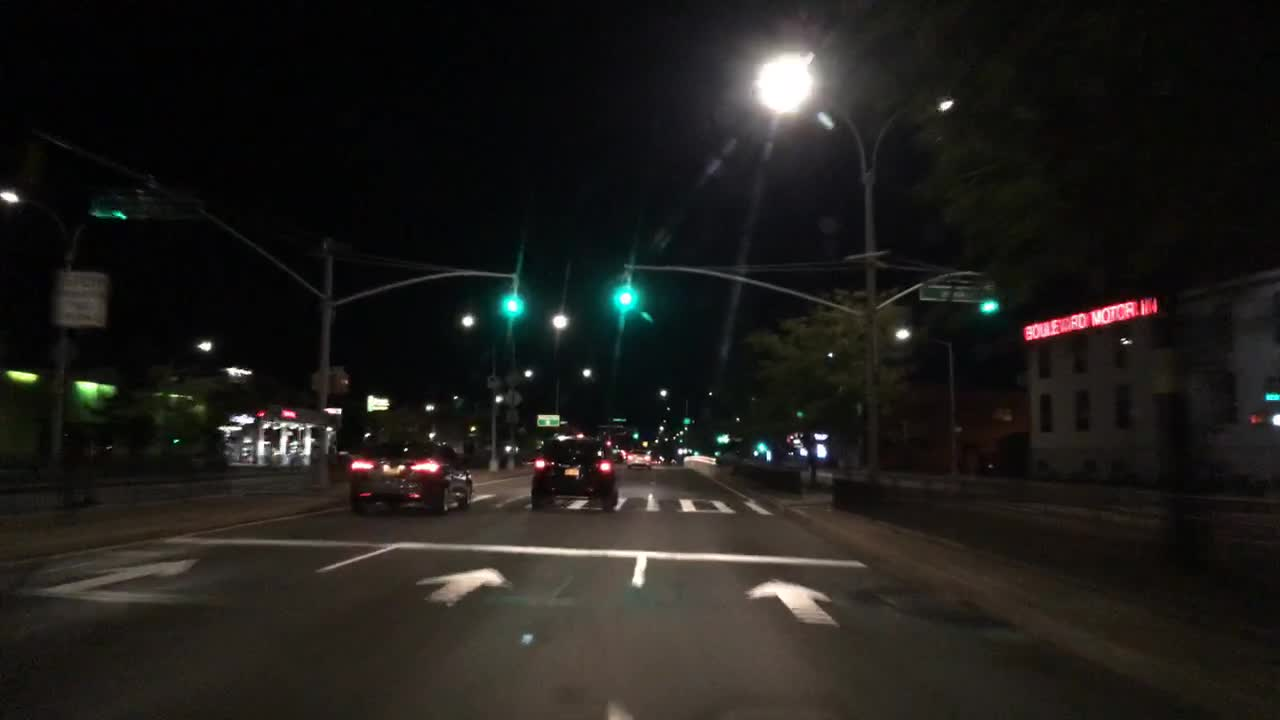car: (343, 432, 472, 514), (528, 432, 619, 511), (627, 448, 651, 469), (613, 448, 626, 459), (654, 455, 664, 462)
traffic light: (612, 286, 638, 312), (324, 364, 347, 390), (499, 295, 525, 317), (981, 299, 1000, 311), (756, 442, 771, 454), (716, 435, 727, 446), (683, 417, 691, 427)
traffic sign: (50, 272, 104, 327), (94, 198, 217, 220), (921, 282, 1002, 300), (504, 390, 523, 405), (323, 407, 341, 414), (487, 376, 498, 387), (610, 417, 626, 421)
